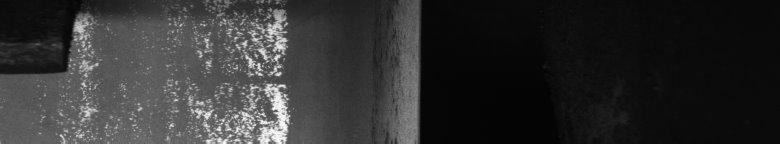kb: (4, 4, 294, 136)
